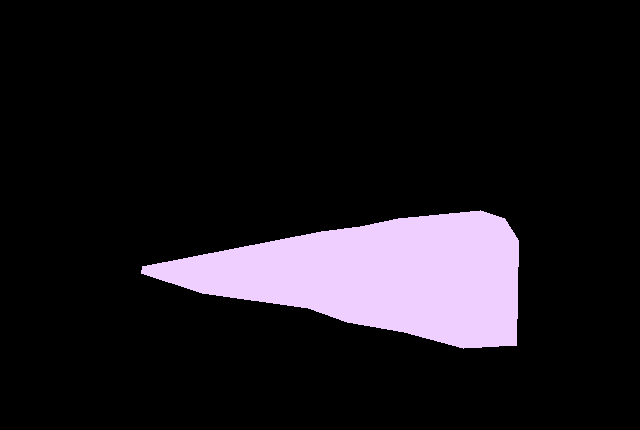Train: (141, 210, 519, 349)
